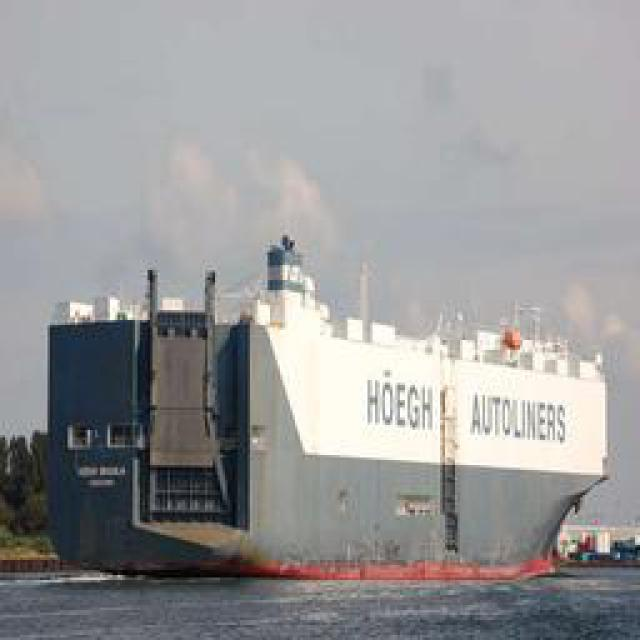Ship: (16, 206, 620, 590)
